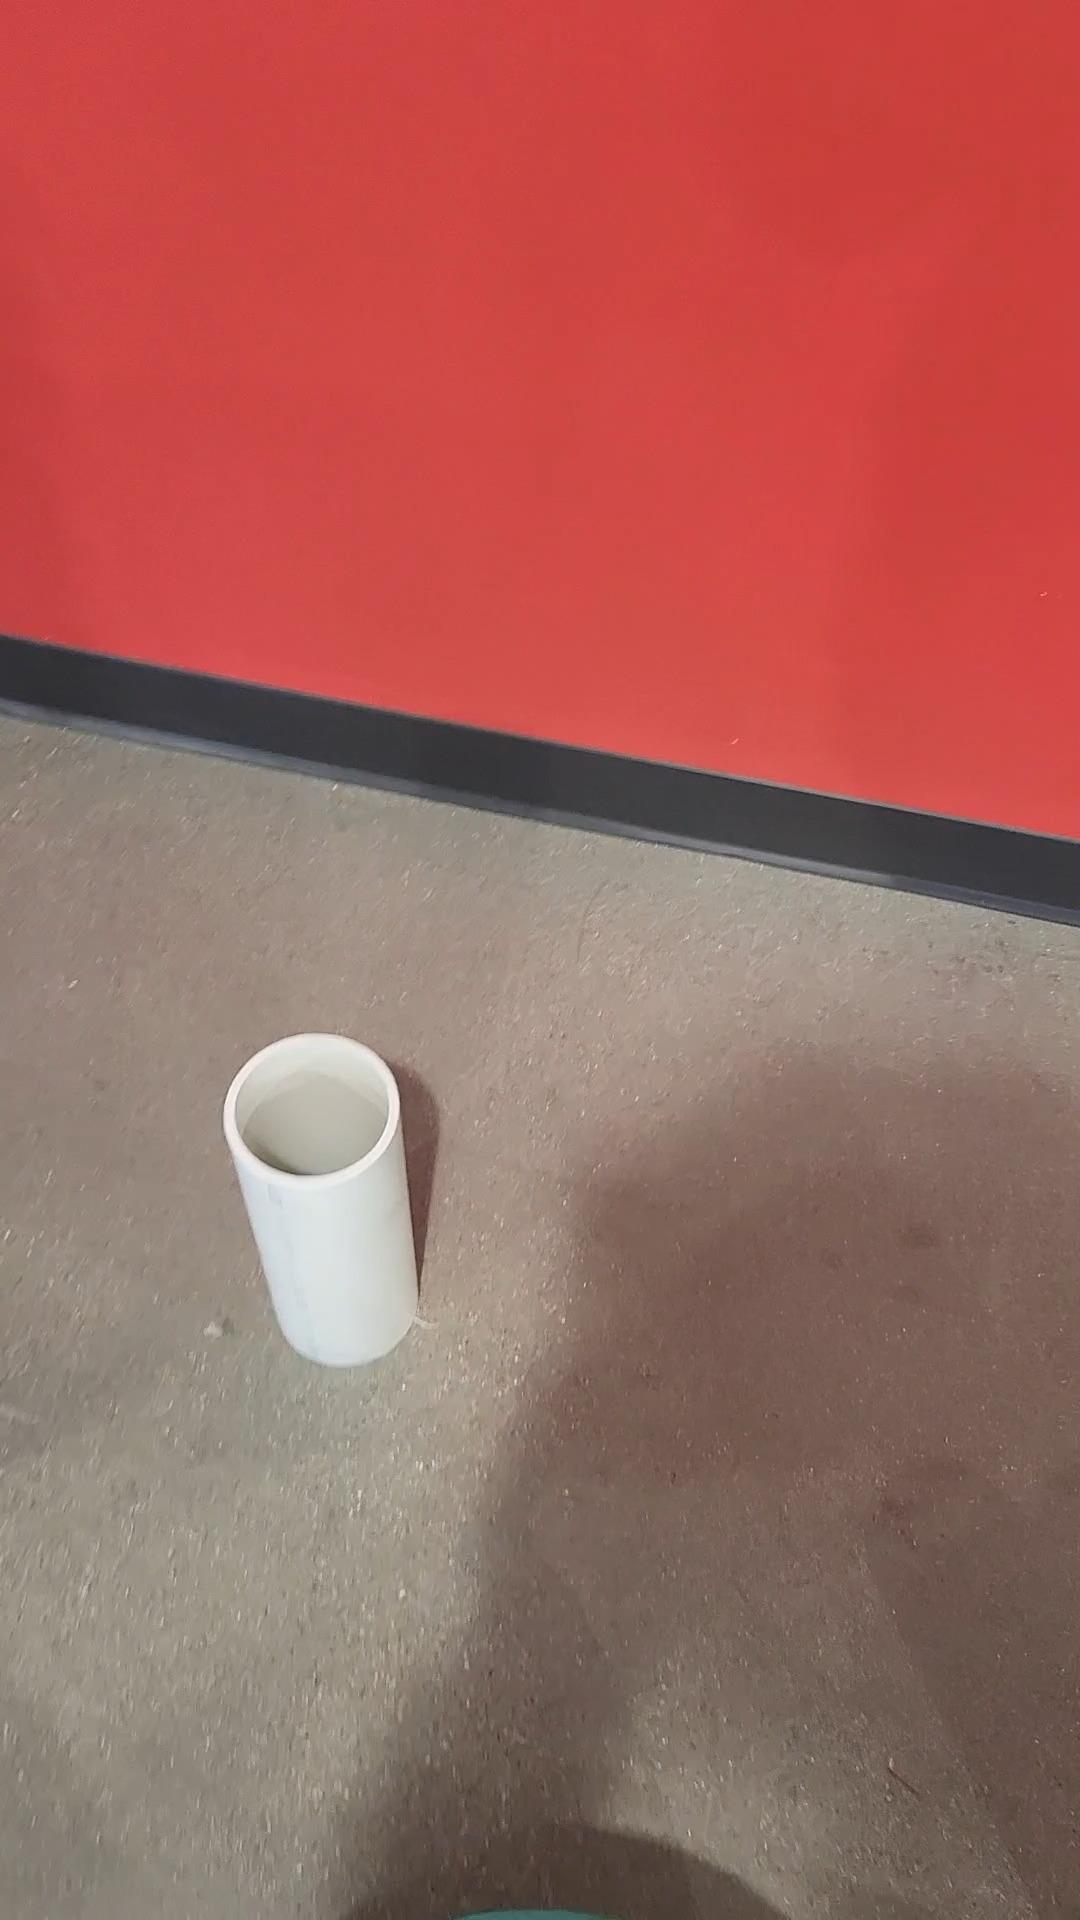coral: (224, 1032, 416, 1366)
